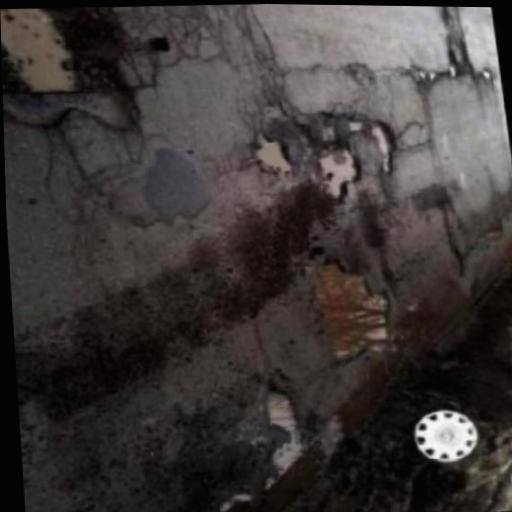pothole: (195, 165, 512, 466), (137, 187, 402, 512), (154, 72, 479, 249), (195, 96, 512, 249), (166, 72, 497, 201), (181, 67, 512, 186), (130, 73, 382, 223), (59, 24, 227, 73)
